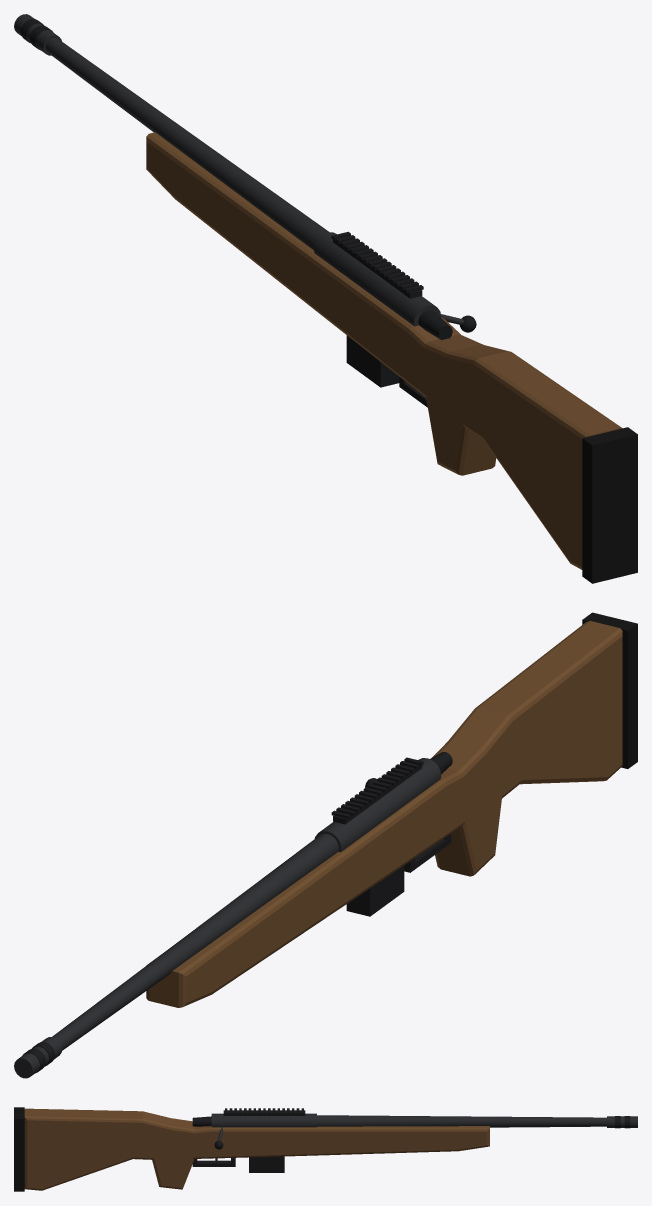
The model's file is rifle.glb.
3 views of the same model, one above another, from view 1: azimuth 30°, elevation 25°; view 2: azimuth 150°, elevation 25°; view 3: azimuth 270°, elevation 25° (orthographic). The views are drawn at different scales.
Parts seen in each view (by area): view 1: stock_wood, stock_rubber, barrel, receiver, optic-rail, magazine, bolt_black; view 2: stock_wood, barrel, receiver, stock_rubber, optic-rail, magazine, muzzle_steel; view 3: stock_wood, barrel, receiver, stock_rubber, optic-rail, magazine, trigger-guard, bolt_black, muzzle_steel, muzzle_black.
Part boxes in pixels (x1,y1,x2,y2): stock_wood: (146, 132, 622, 569); stock_rubber: (582, 427, 637, 583); barrel: (45, 38, 329, 250); receiver: (314, 232, 441, 326); optic-rail: (331, 231, 423, 298); magazine: (346, 335, 399, 387); bolt_black: (418, 310, 476, 339); stock_wood: (146, 621, 622, 1007); barrel: (52, 833, 338, 1050); receiver: (314, 758, 441, 852); stock_rubber: (582, 612, 637, 768); optic-rail: (331, 757, 423, 824); magazine: (346, 865, 404, 916); muzzle_steel: (14, 1037, 62, 1078); stock_wood: (24, 1108, 489, 1190); barrel: (317, 1115, 606, 1127); receiver: (211, 1113, 316, 1127); stock_rubber: (14, 1107, 24, 1191); optic-rail: (223, 1108, 305, 1115); magazine: (249, 1156, 284, 1172); trigger-guard: (192, 1158, 235, 1166); bolt_black: (192, 1116, 223, 1149); muzzle_steel: (607, 1116, 637, 1127); muzzle_black: (615, 1116, 630, 1128).
Size of the model in its own units: 0.0985 by 0.1761 by 1.3.
